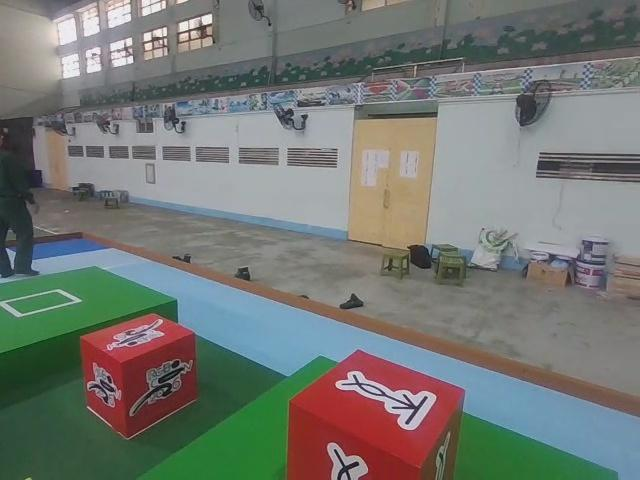R1: (79, 314, 198, 435)
R2 Real: (285, 349, 470, 480)
